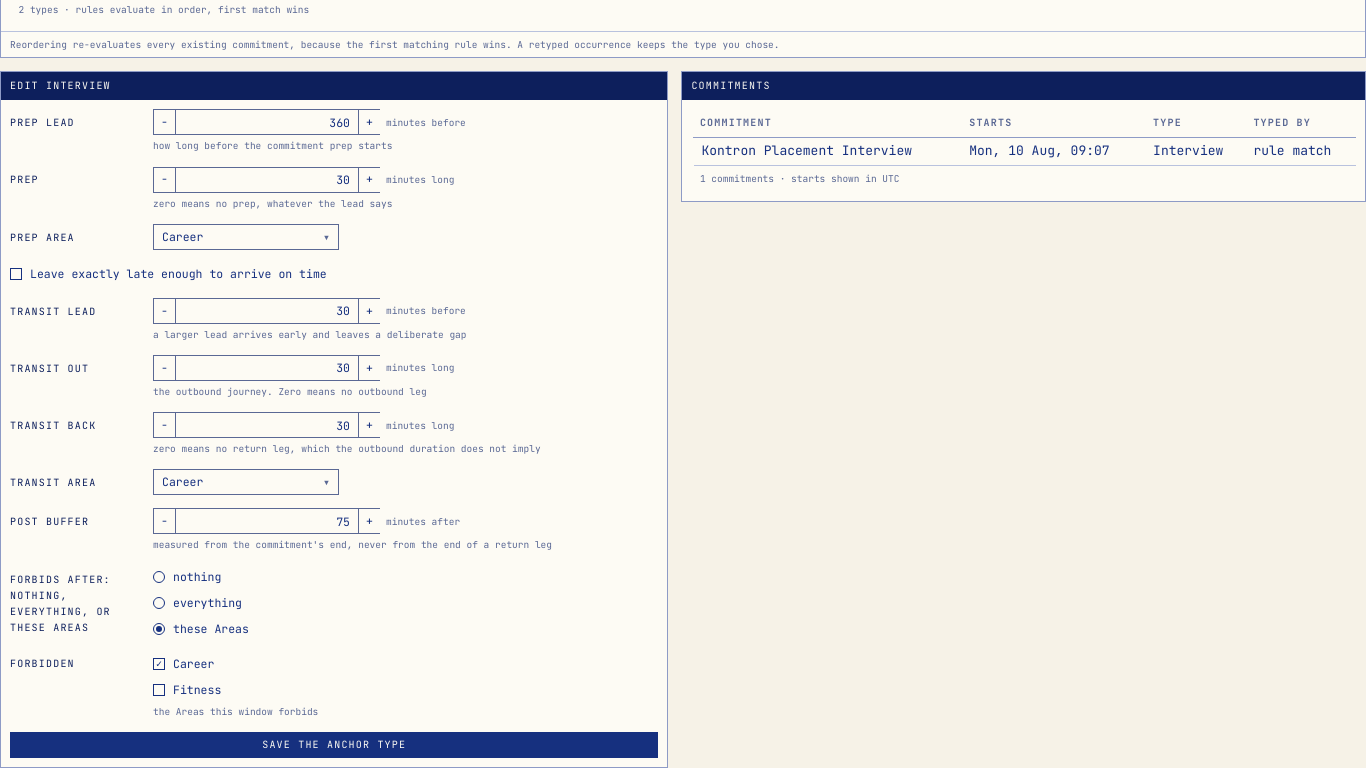
Test case: editing a type's geometry › removes a forbidden Area that was already named
The image size is (1366, 768).
(page scrolled)
Click the 2nd checkbox named "Career". click: coordinates (159, 664)
box: x1=153 y1=658 x2=165 y2=670
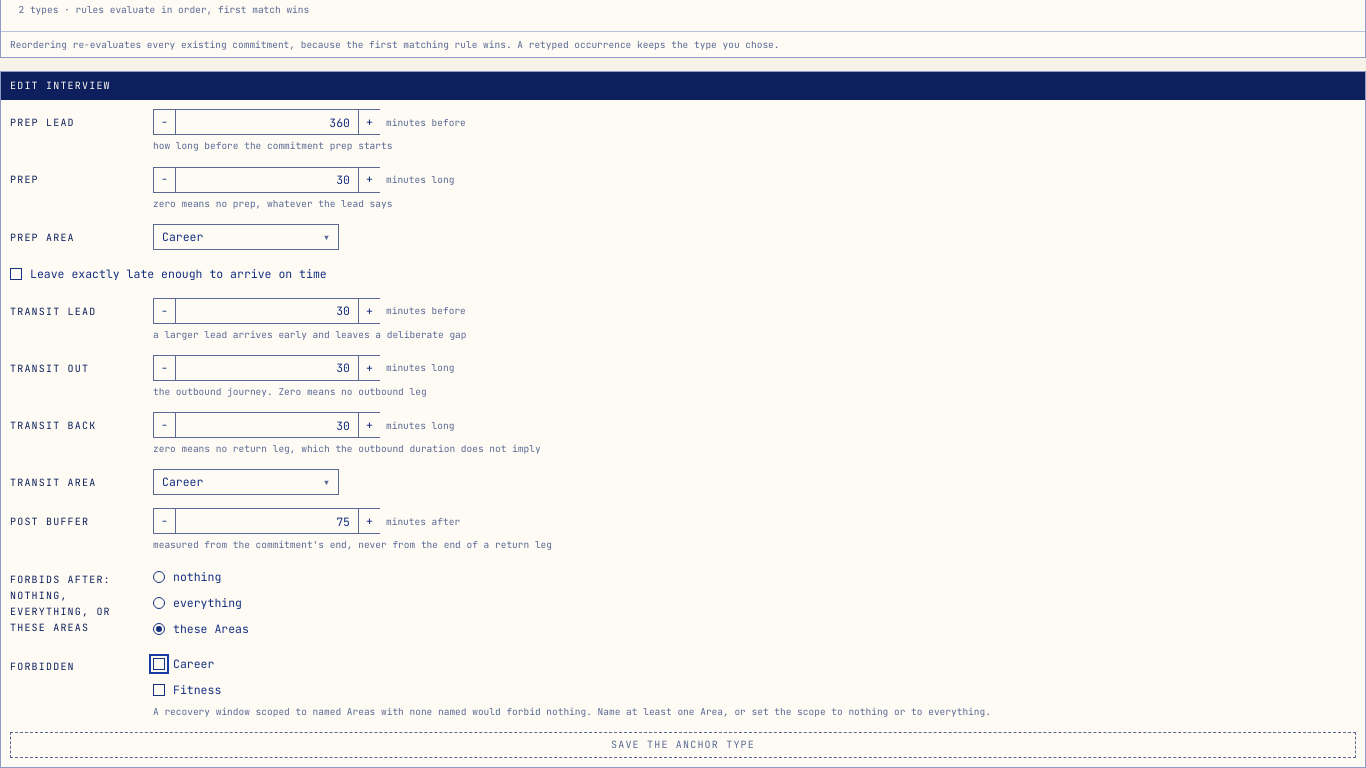
Check: the button "Save the anchor type" is disabled, box x1=10 y1=732 x2=1356 y2=758
